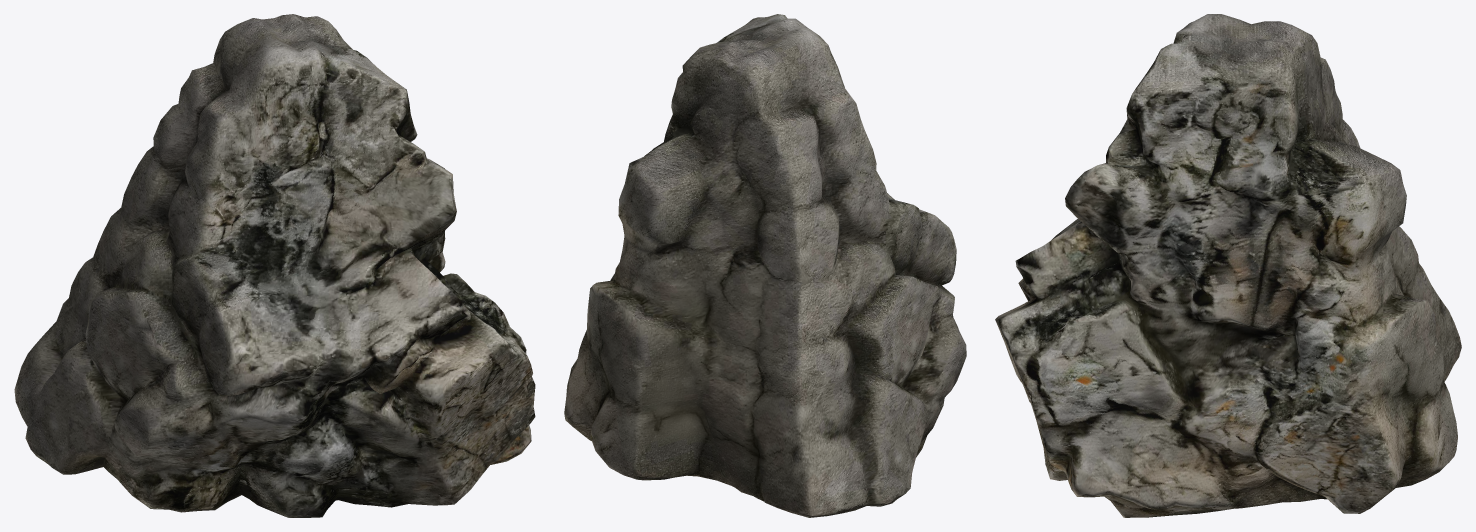
Rendered from selected.glb.
The picture shows the model from 3 angles, left to right: view 1: azimuth 30°, elevation 25°; view 2: azimuth 150°, elevation 25°; view 3: azimuth 270°, elevation 25°; orthographic projection. The views are drawn at different scales.
Parts seen in each view (by area): view 1: tripo_node_0477c326-f10d-4257-9a49-0be8867c9548; view 2: tripo_node_0477c326-f10d-4257-9a49-0be8867c9548; view 3: tripo_node_0477c326-f10d-4257-9a49-0be8867c9548.
Part boxes in pixels (x1,y1,x2,y2): tripo_node_0477c326-f10d-4257-9a49-0be8867c9548: (14,14,535,517); tripo_node_0477c326-f10d-4257-9a49-0be8867c9548: (564,14,966,517); tripo_node_0477c326-f10d-4257-9a49-0be8867c9548: (995,14,1461,517).
Bounding box in the file's own units: 0.8613 × 0.998 × 0.9785.
Materials: 1 (1 with a texture image).
